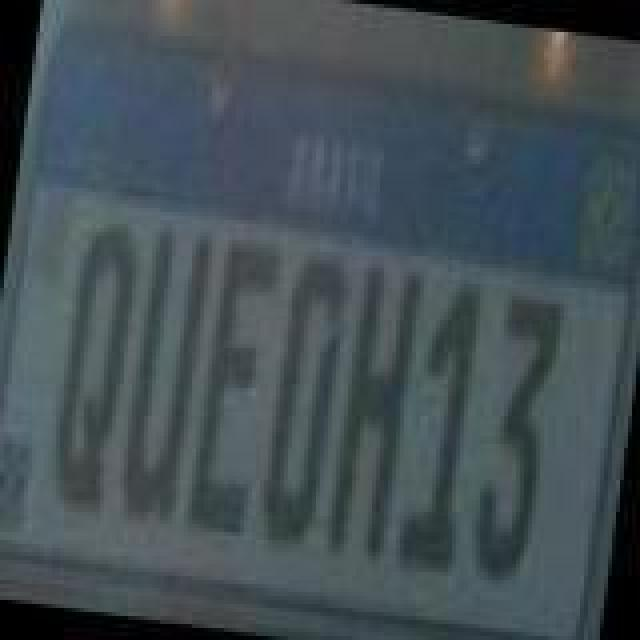1: (388, 272, 492, 584)
3: (464, 290, 568, 590)
D: (252, 246, 356, 554)
E: (180, 226, 284, 542)
H: (324, 254, 428, 562)
Q: (44, 216, 148, 520)
U: (112, 218, 216, 534)
